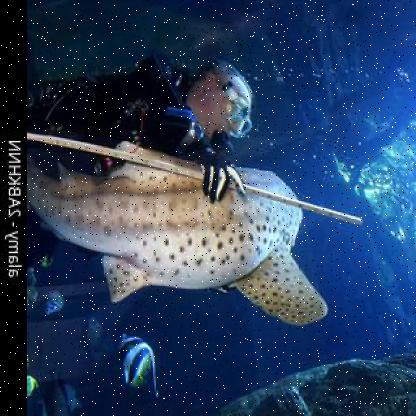zebra_shark: (24, 110, 356, 350)
